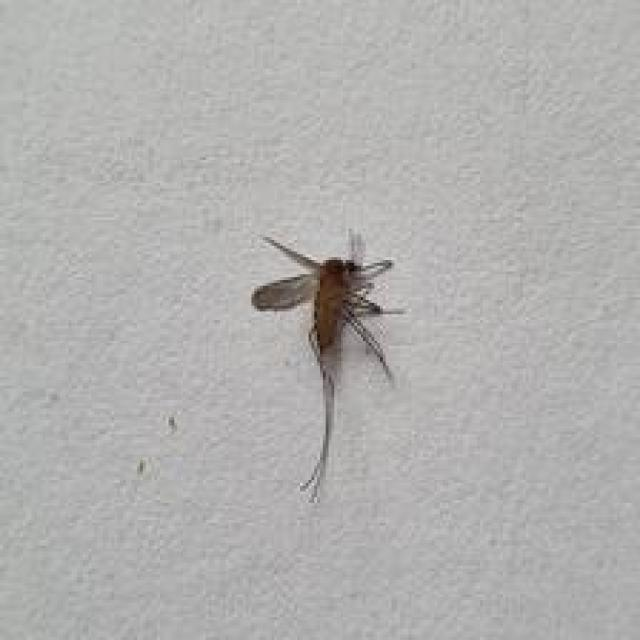Culex: (248, 227, 406, 504)
